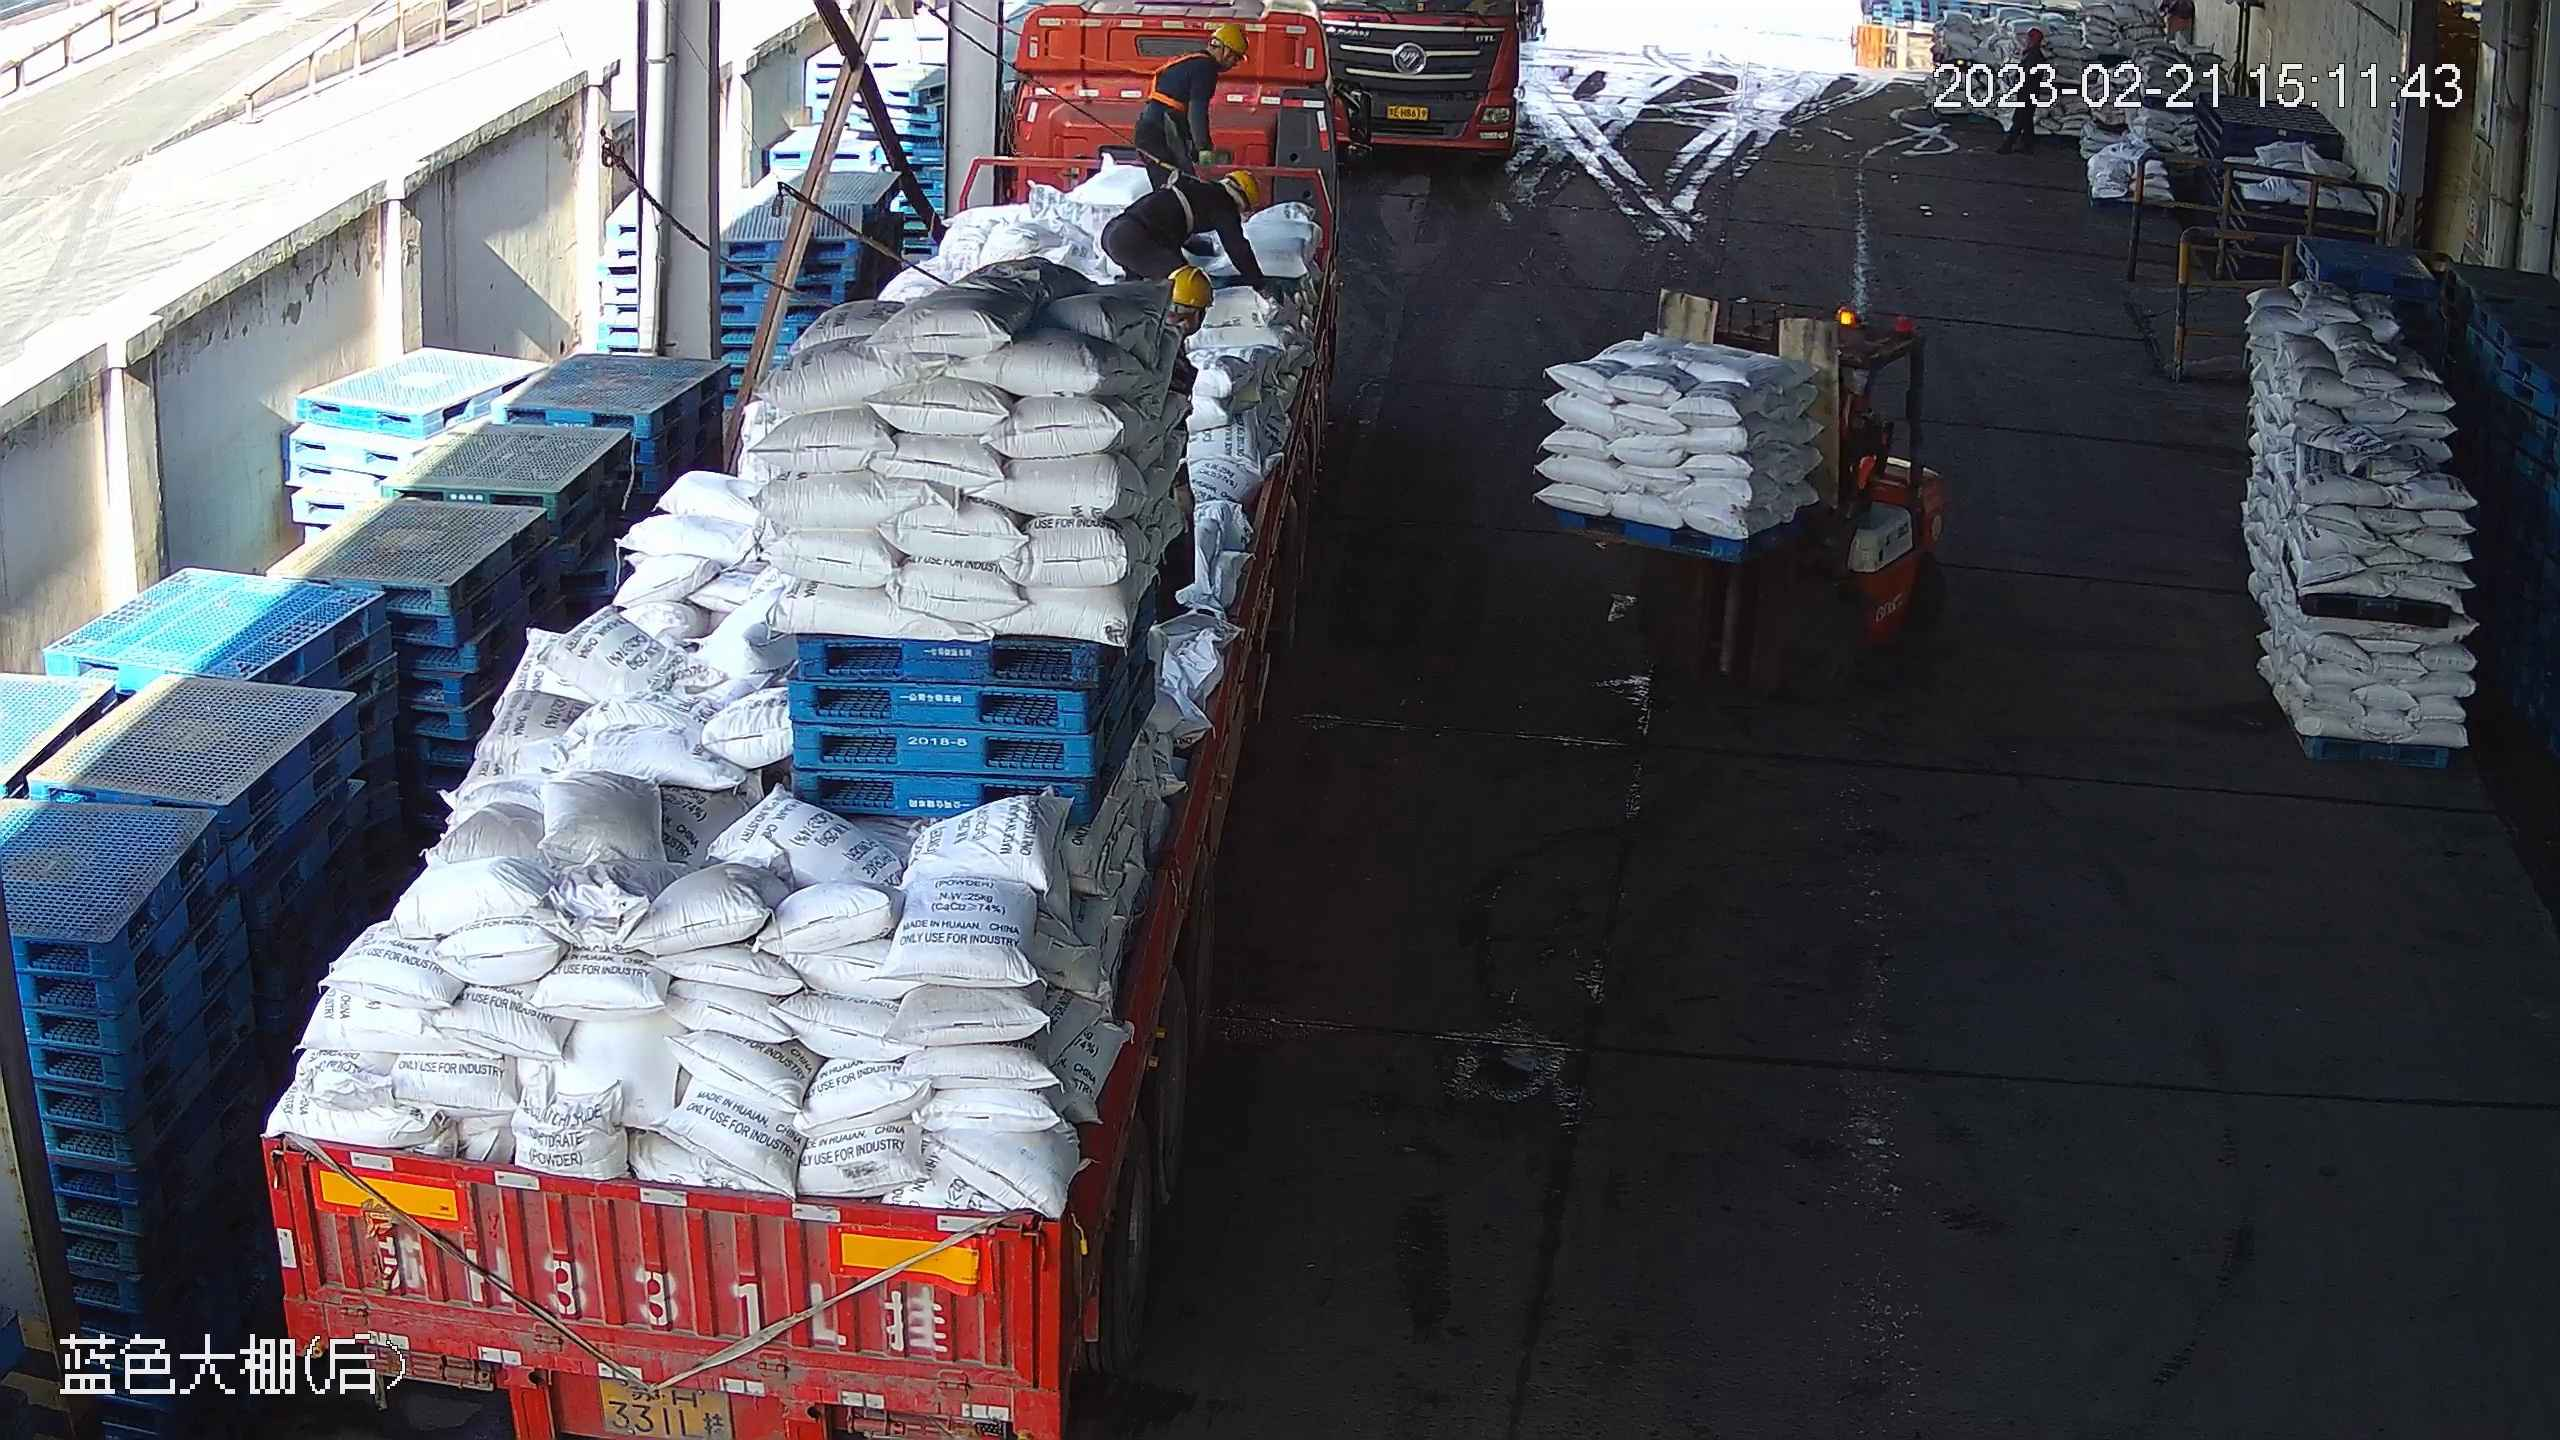belt: (1159, 163, 1246, 237), (1138, 53, 1211, 115)
head: (1182, 22, 1250, 89), (1198, 168, 1266, 235)
helmet: (1166, 265, 1214, 307), (1225, 168, 1261, 211), (1213, 21, 1249, 56)
people: (1100, 168, 1266, 293), (1133, 21, 1250, 192)
truck: (258, 1, 1374, 1440), (1319, 1, 1523, 168)
